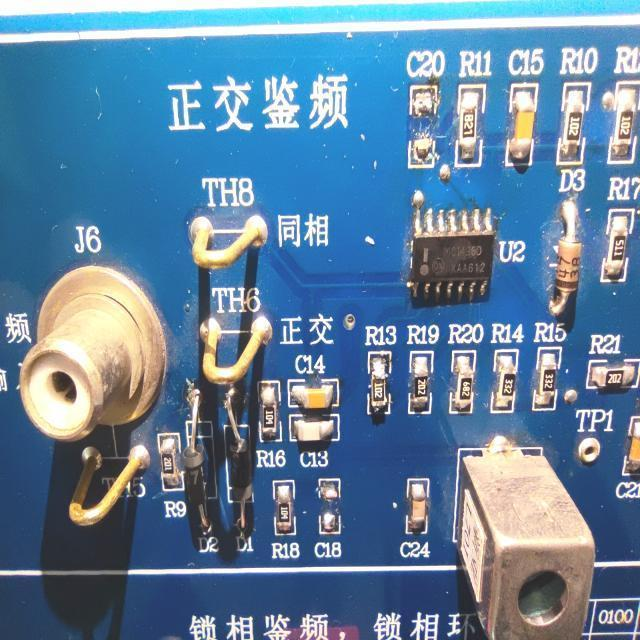Missing component: (404, 46, 444, 171), (311, 474, 345, 560)
